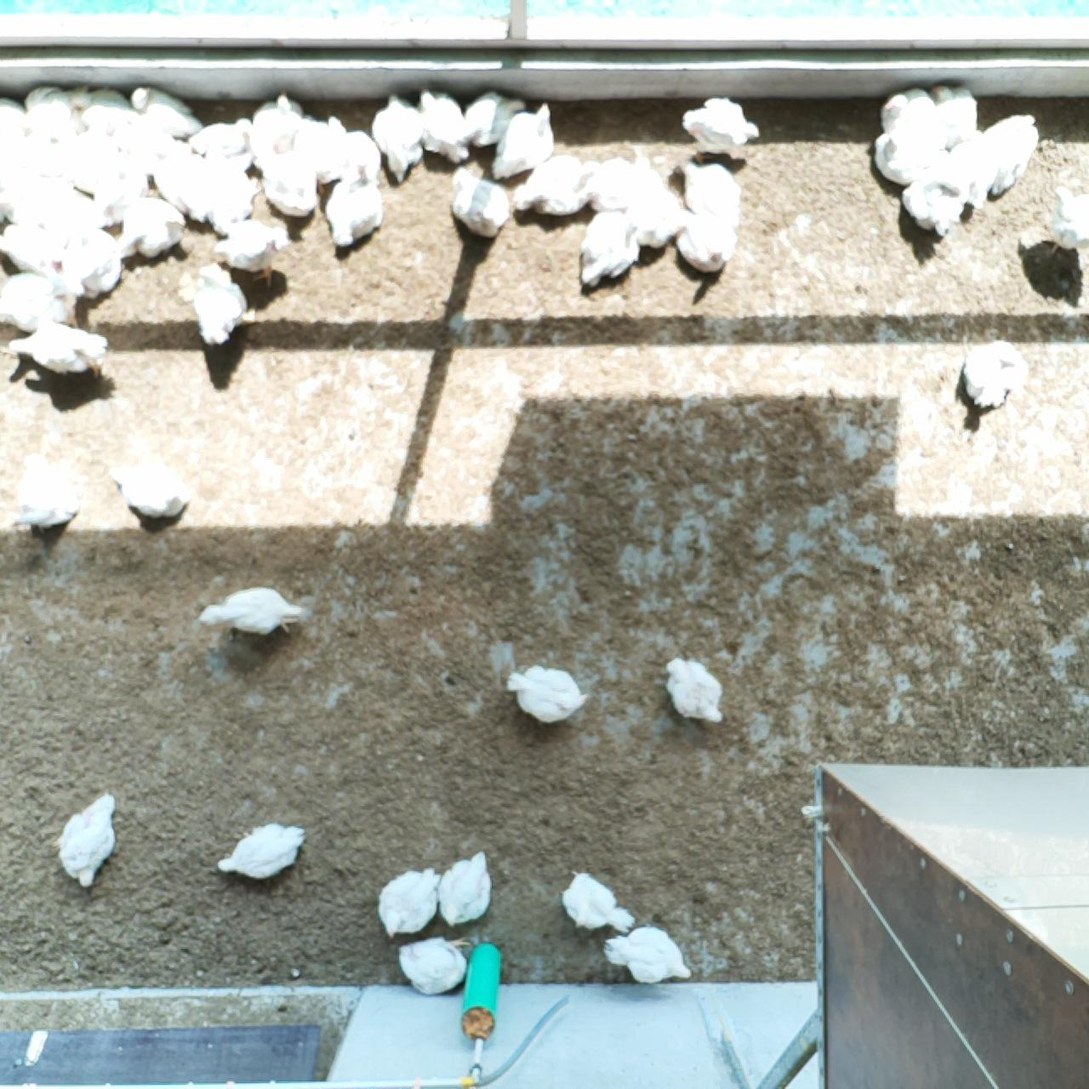chicken: (509, 149, 605, 219), (6, 319, 112, 381), (108, 450, 196, 524), (55, 788, 118, 888), (976, 110, 1042, 203), (488, 95, 559, 181), (573, 208, 644, 293), (602, 924, 696, 988), (212, 213, 293, 287), (9, 451, 82, 532), (683, 93, 765, 165), (196, 584, 305, 638), (897, 157, 969, 238), (190, 262, 258, 347), (500, 663, 590, 727), (1, 177, 105, 232), (216, 821, 306, 883), (366, 90, 425, 184), (0, 269, 83, 335), (957, 337, 1028, 414), (395, 931, 475, 999), (323, 160, 384, 248), (876, 83, 956, 150), (375, 865, 445, 941), (152, 138, 212, 226), (54, 225, 125, 298), (200, 150, 258, 239), (559, 867, 636, 934), (108, 197, 186, 262), (943, 127, 1002, 212), (253, 143, 317, 221), (618, 181, 692, 248), (446, 165, 511, 241), (874, 123, 950, 188), (662, 653, 727, 727), (414, 82, 472, 163), (587, 152, 661, 215), (674, 151, 743, 218), (673, 205, 739, 275), (437, 849, 493, 928), (16, 83, 91, 141), (453, 89, 525, 149), (0, 215, 66, 279), (127, 84, 205, 138), (288, 109, 342, 185), (326, 113, 383, 184), (249, 89, 306, 154), (927, 83, 983, 149), (1041, 182, 1089, 258), (67, 86, 141, 134), (30, 133, 102, 179), (187, 114, 254, 158), (124, 133, 192, 174), (92, 155, 150, 199), (0, 133, 38, 187), (0, 92, 27, 142), (0, 185, 12, 222)
